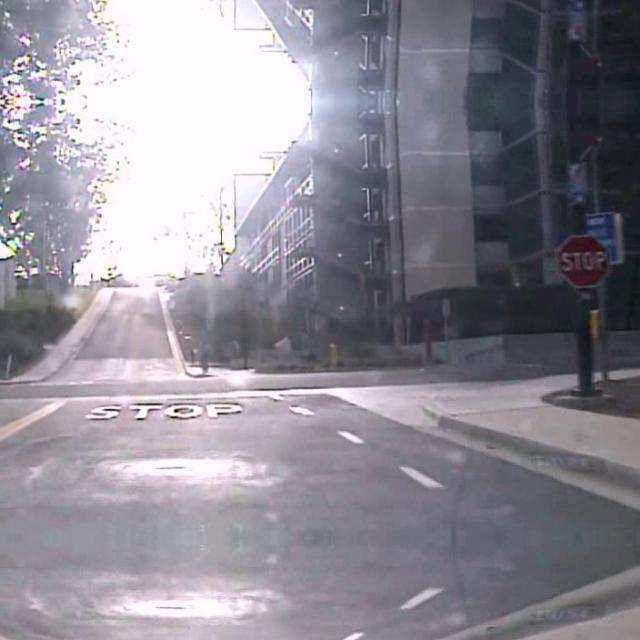stop: (555, 233, 609, 287)
